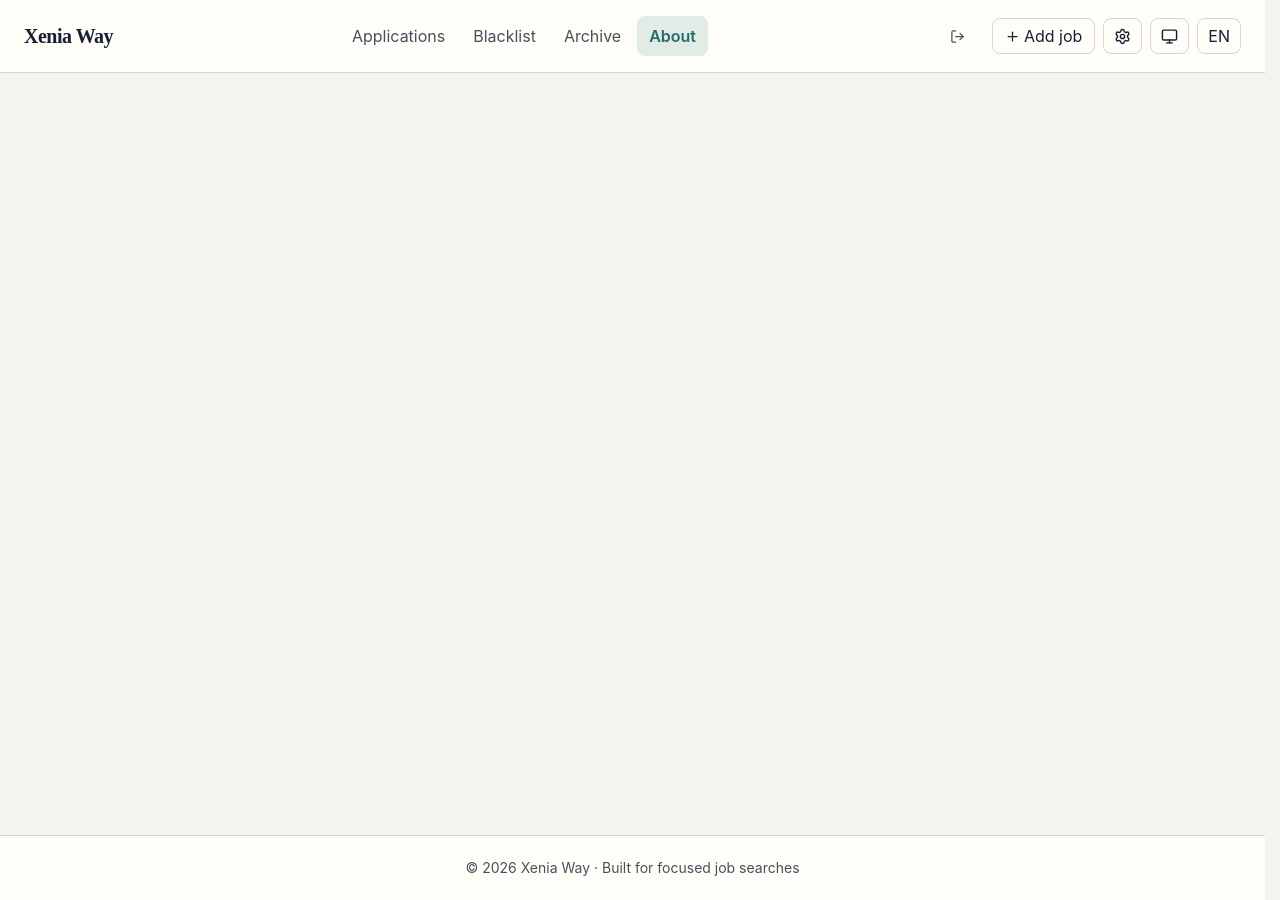
Test: a returning user's resolved welcome intent does not hide header failure feedback
What coordinates should you click on to do the following:
click the button named "Theme: System. Change theme"
I would click on:
 (1170, 36)
Its box is x1=1150 y1=18 x2=1189 y2=54.
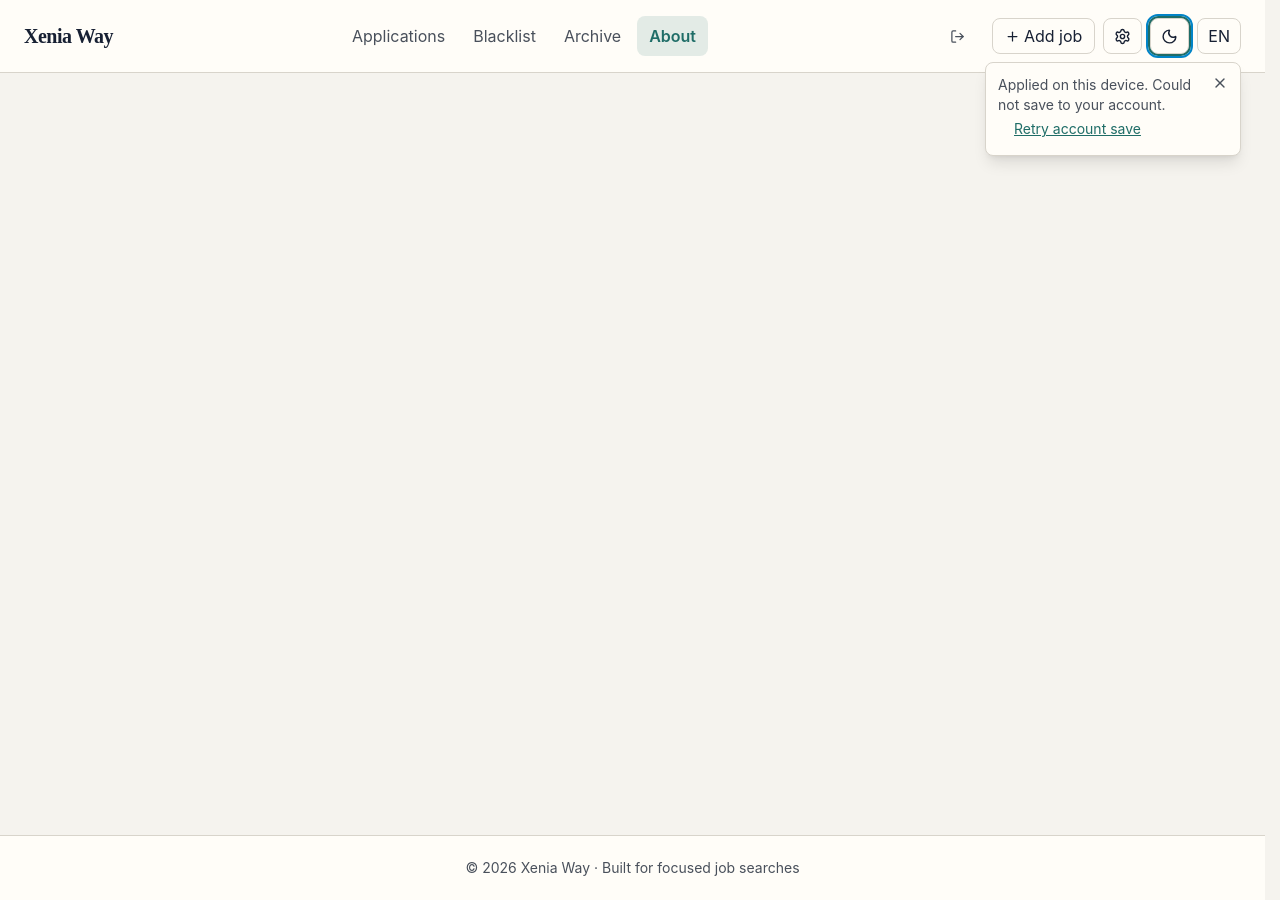
Check: the button "Retry account save" is shown, box x1=1006 y1=115 x2=1149 y2=143
Check: the number of messages is 1, box x1=985 y1=62 x2=1241 y2=156
